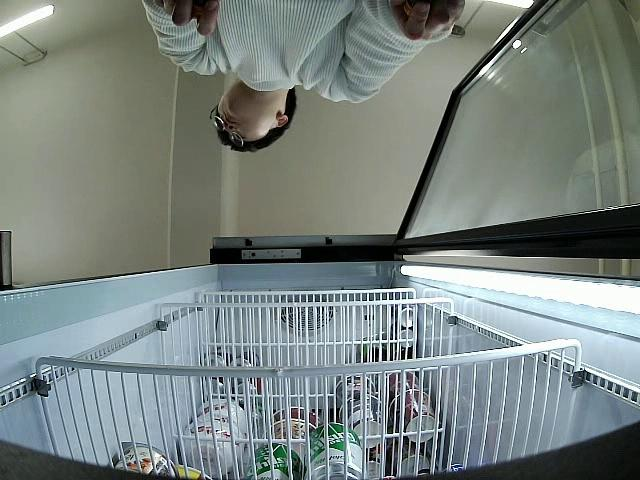00_hand: (395, 0, 465, 39), (147, 0, 219, 37)
